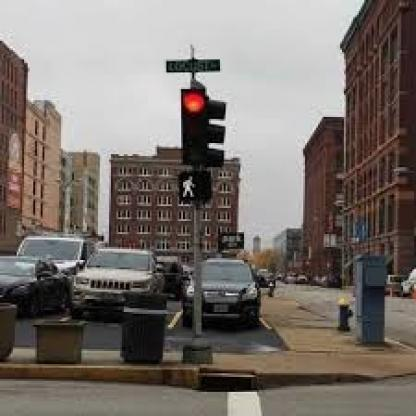Traffic Signal: (181, 87, 211, 164)
Walk: (177, 171, 214, 200)
